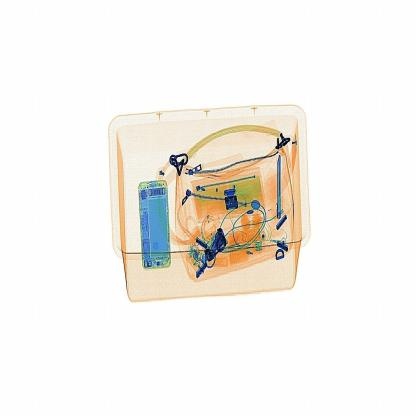pliers: (264, 144, 290, 225)
